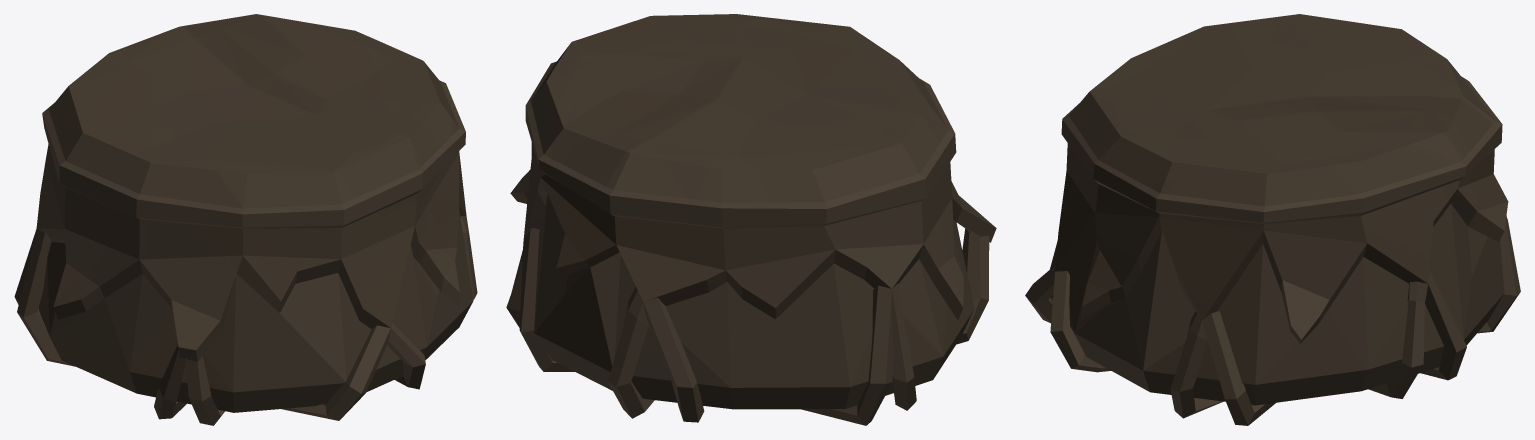
The model's file is bog_drum.gltf.
The picture shows the model from 3 angles, left to right: view 1: azimuth 30°, elevation 25°; view 2: azimuth 150°, elevation 25°; view 3: azimuth 270°, elevation 25°; orthographic projection. The views are drawn at different scales.
Visible parts, largest first — view 1: bog_drum; view 2: bog_drum; view 3: bog_drum.
Part boxes in pixels (box(x1,y1,x2,y2)): bog_drum: box(14, 14, 477, 425); bog_drum: box(506, 14, 996, 425); bog_drum: box(1025, 14, 1520, 425).
Size of the model in its own units: 1.03 by 0.6373 by 1.04.
Materials: 1 (1 with a texture image).
